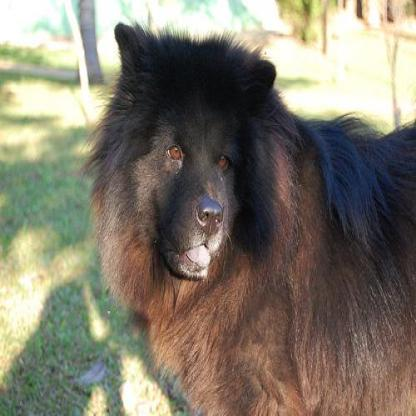chow: (85, 19, 413, 412)
